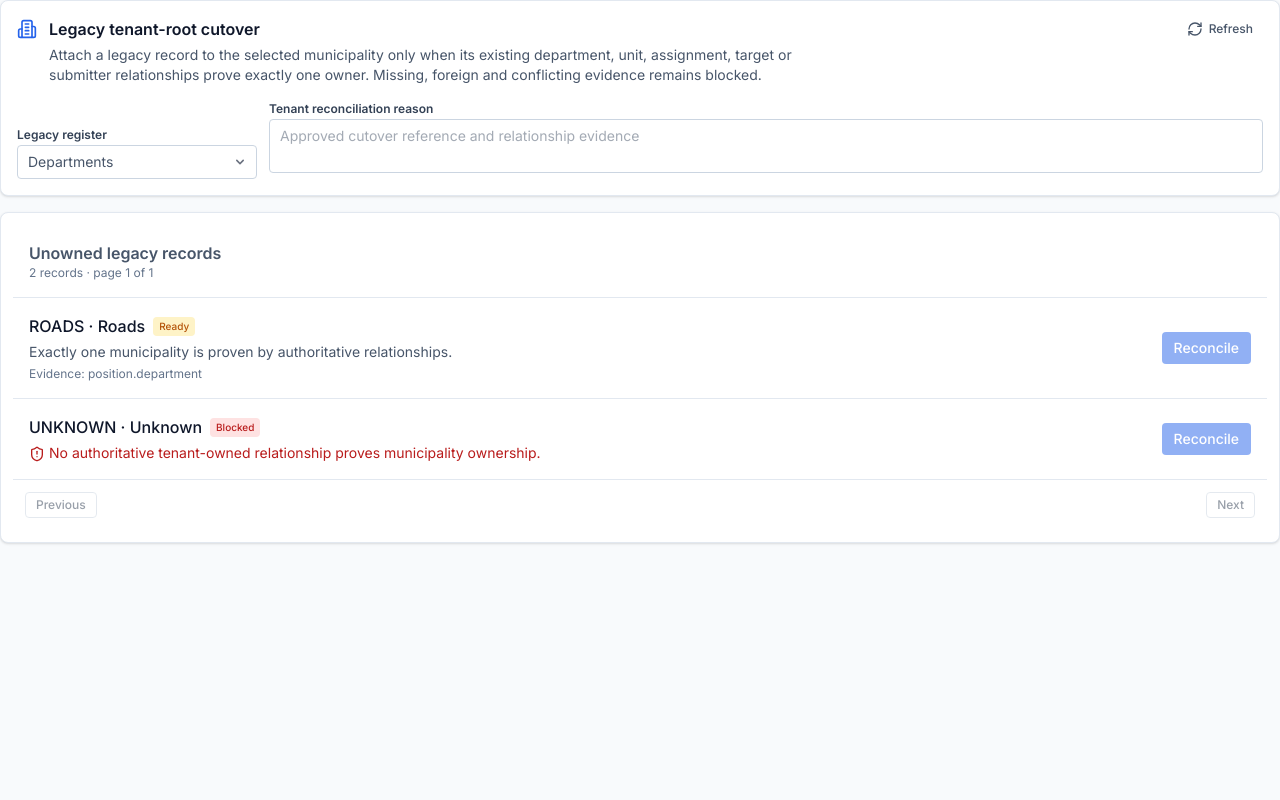
LegacyTenantOwnershipReconciliationAdministration › executes only a ready record with a substantive governance reason and RowVersion
The image size is (1280, 800).
Later steps or results of the test are not shown.
Expected: the text "No authoritative tenant-owned relationship proves municipality ownership." is shown, 29,444 -> 541,462
Expected: the button "Reconcile" in the row of "ROADS · Roads" is disabled, 1162,332 -> 1251,364
Type "Approved tenant cutover CR-201" into the text box labelled "Tenant reconciliation reason" at (766, 146), box 269,119 -> 1263,173
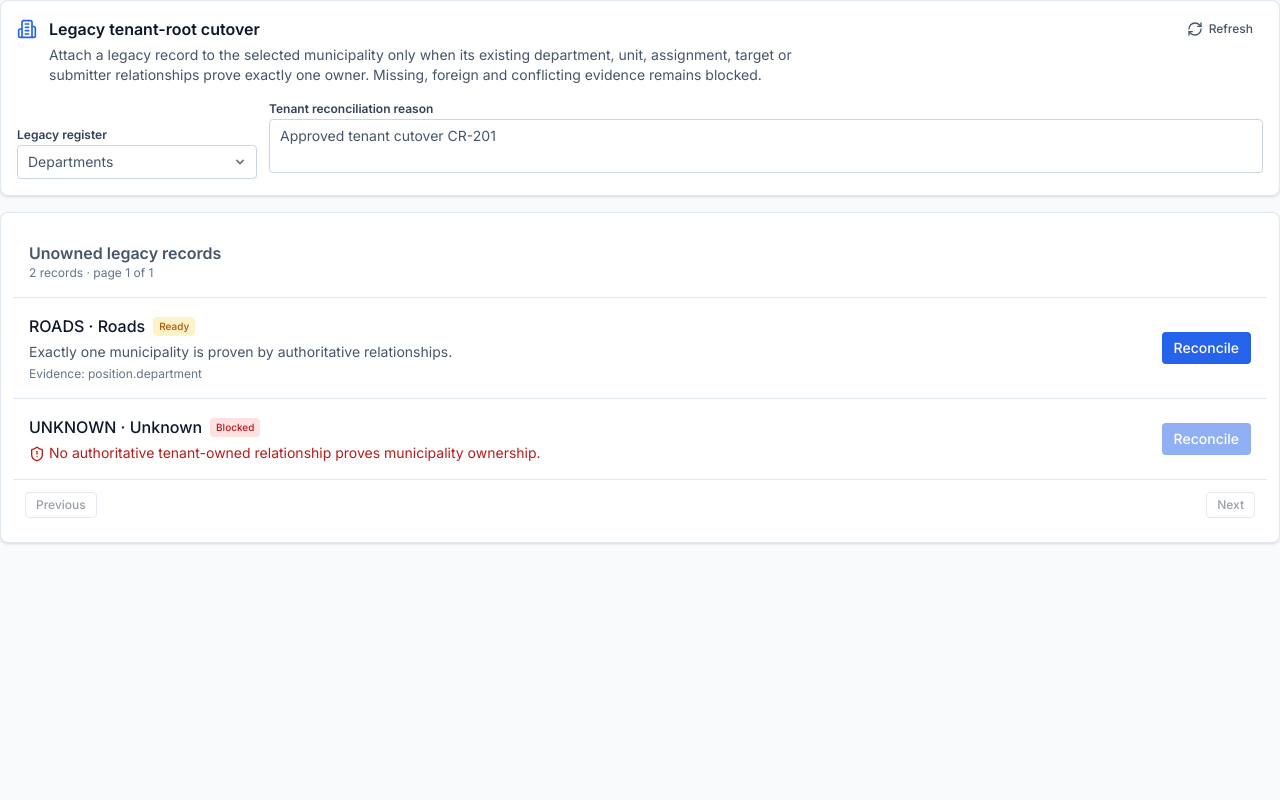
Expected: the button "Reconcile" in the row of "UNKNOWN · Unknown" is disabled, 1162,423 -> 1251,455
Expected: the button "Reconcile" in the row of "ROADS · Roads" is enabled, 1162,332 -> 1251,364
